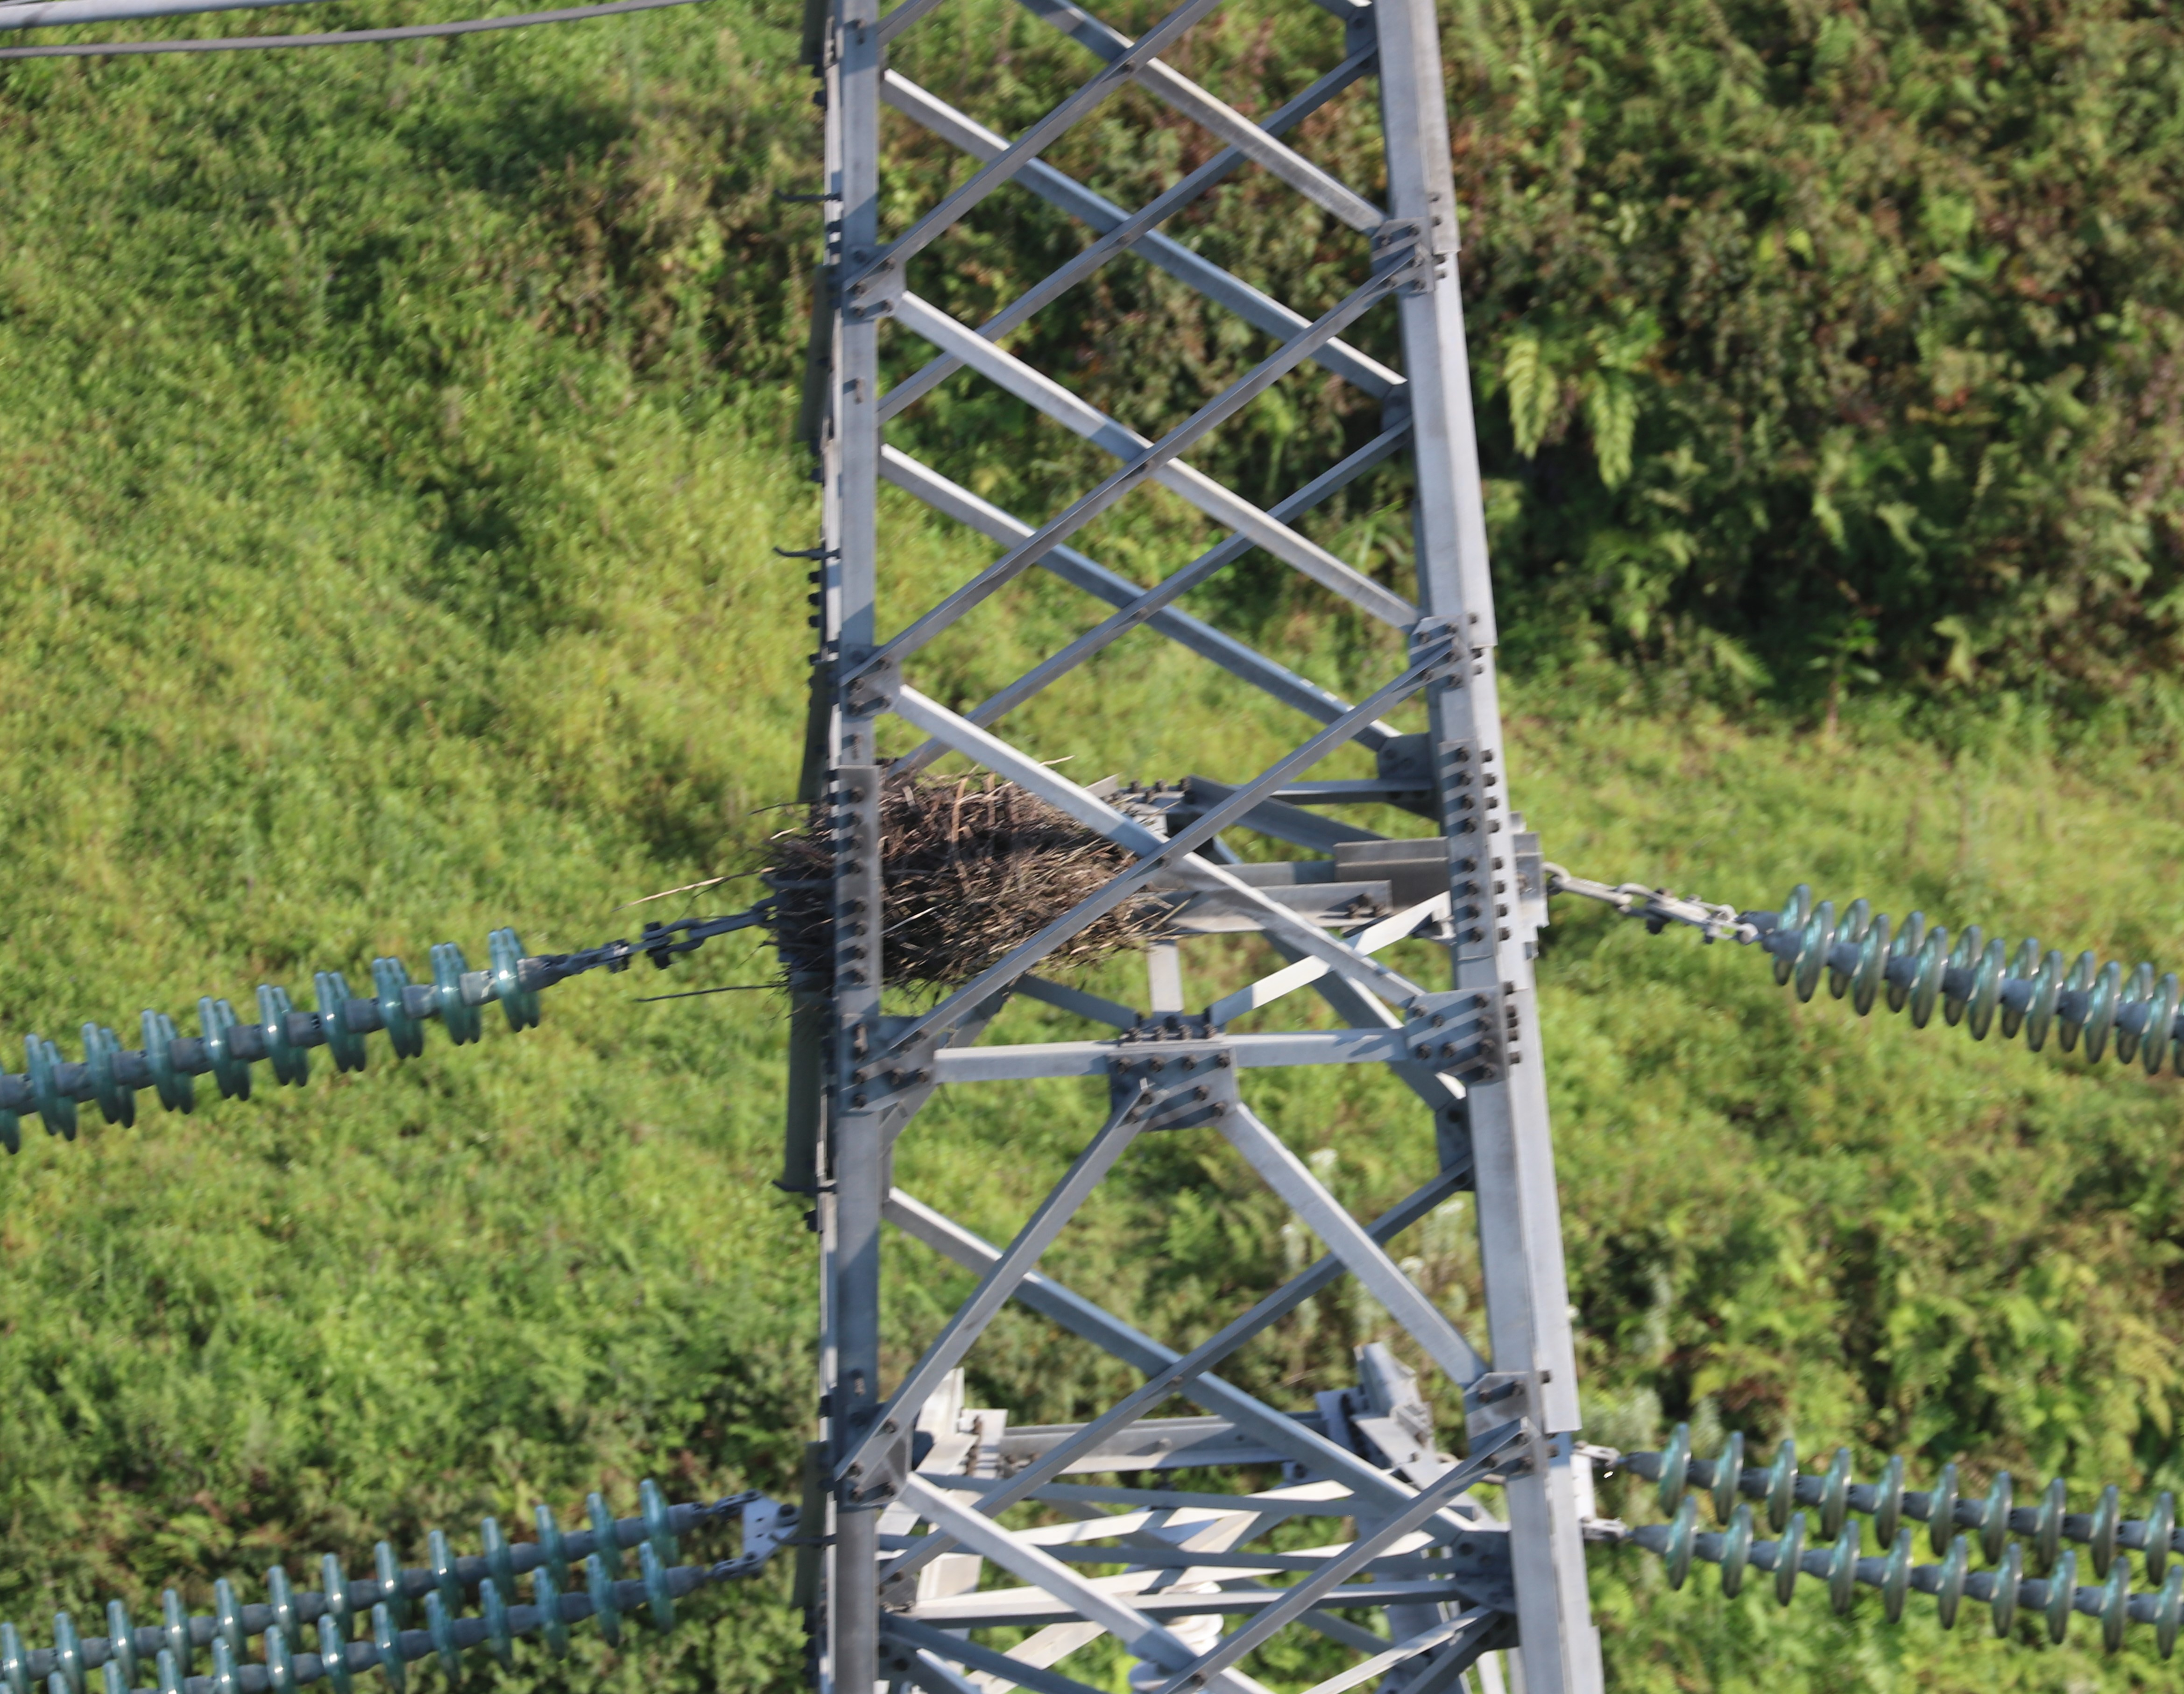niaowo: (787, 749, 1184, 1022)
